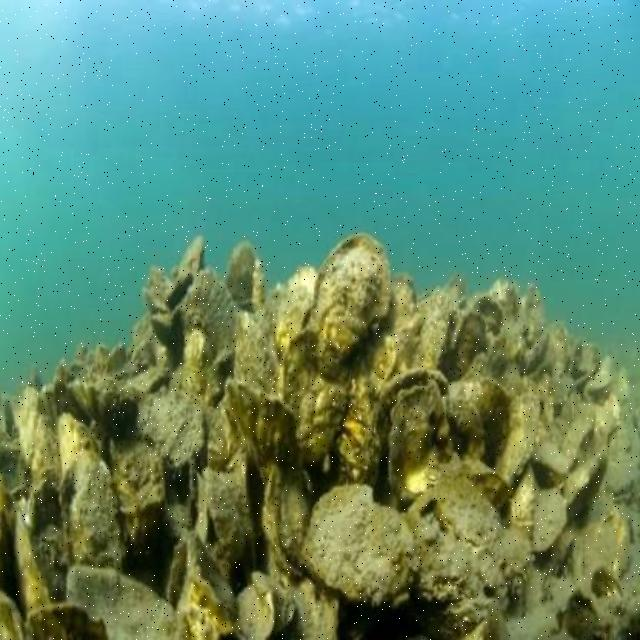Oyster-Closed: (304, 486, 420, 604), (314, 239, 390, 376), (282, 327, 348, 470), (365, 370, 451, 472), (229, 381, 304, 490), (66, 570, 180, 640), (61, 451, 124, 573), (176, 533, 241, 640), (134, 391, 208, 466), (263, 473, 313, 579), (185, 268, 236, 368), (434, 481, 503, 551), (453, 380, 517, 447), (495, 394, 540, 489), (233, 310, 281, 398), (13, 511, 51, 618), (113, 437, 163, 516), (208, 469, 248, 562), (74, 382, 144, 434), (207, 396, 250, 480), (561, 452, 607, 523), (278, 267, 316, 352), (445, 312, 490, 383), (26, 606, 114, 640), (56, 414, 103, 476), (414, 292, 449, 368), (224, 244, 261, 306), (0, 472, 17, 594), (505, 472, 534, 538), (0, 584, 26, 640), (466, 473, 510, 506), (530, 441, 570, 477), (490, 281, 520, 319), (547, 323, 568, 375), (176, 238, 205, 274), (585, 373, 613, 395)
Oyster-Open: (565, 588, 603, 640)
